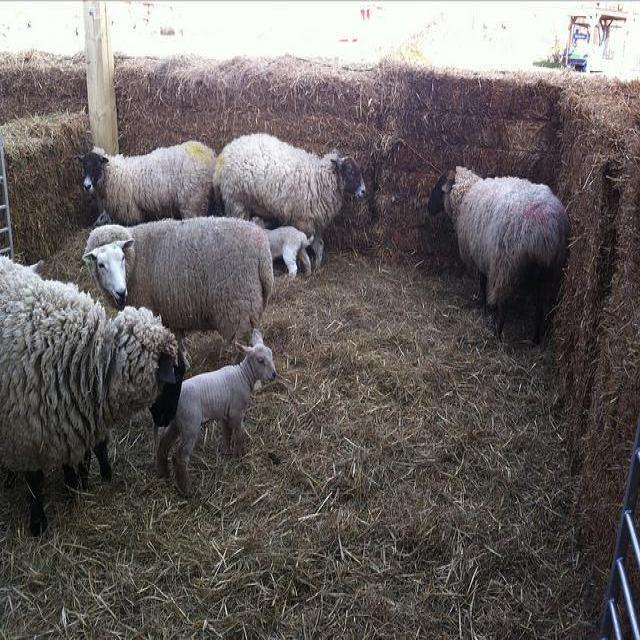Sheep: (0, 256, 185, 538), (84, 217, 273, 365), (428, 166, 569, 345), (215, 131, 366, 269), (157, 340, 283, 501), (72, 141, 217, 226), (254, 218, 312, 273)
